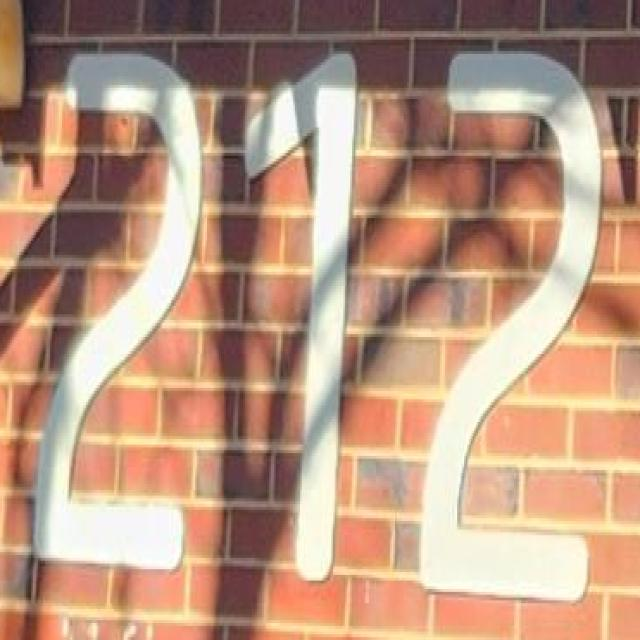character: (415, 47, 606, 608), (29, 42, 208, 585), (238, 48, 364, 599)
